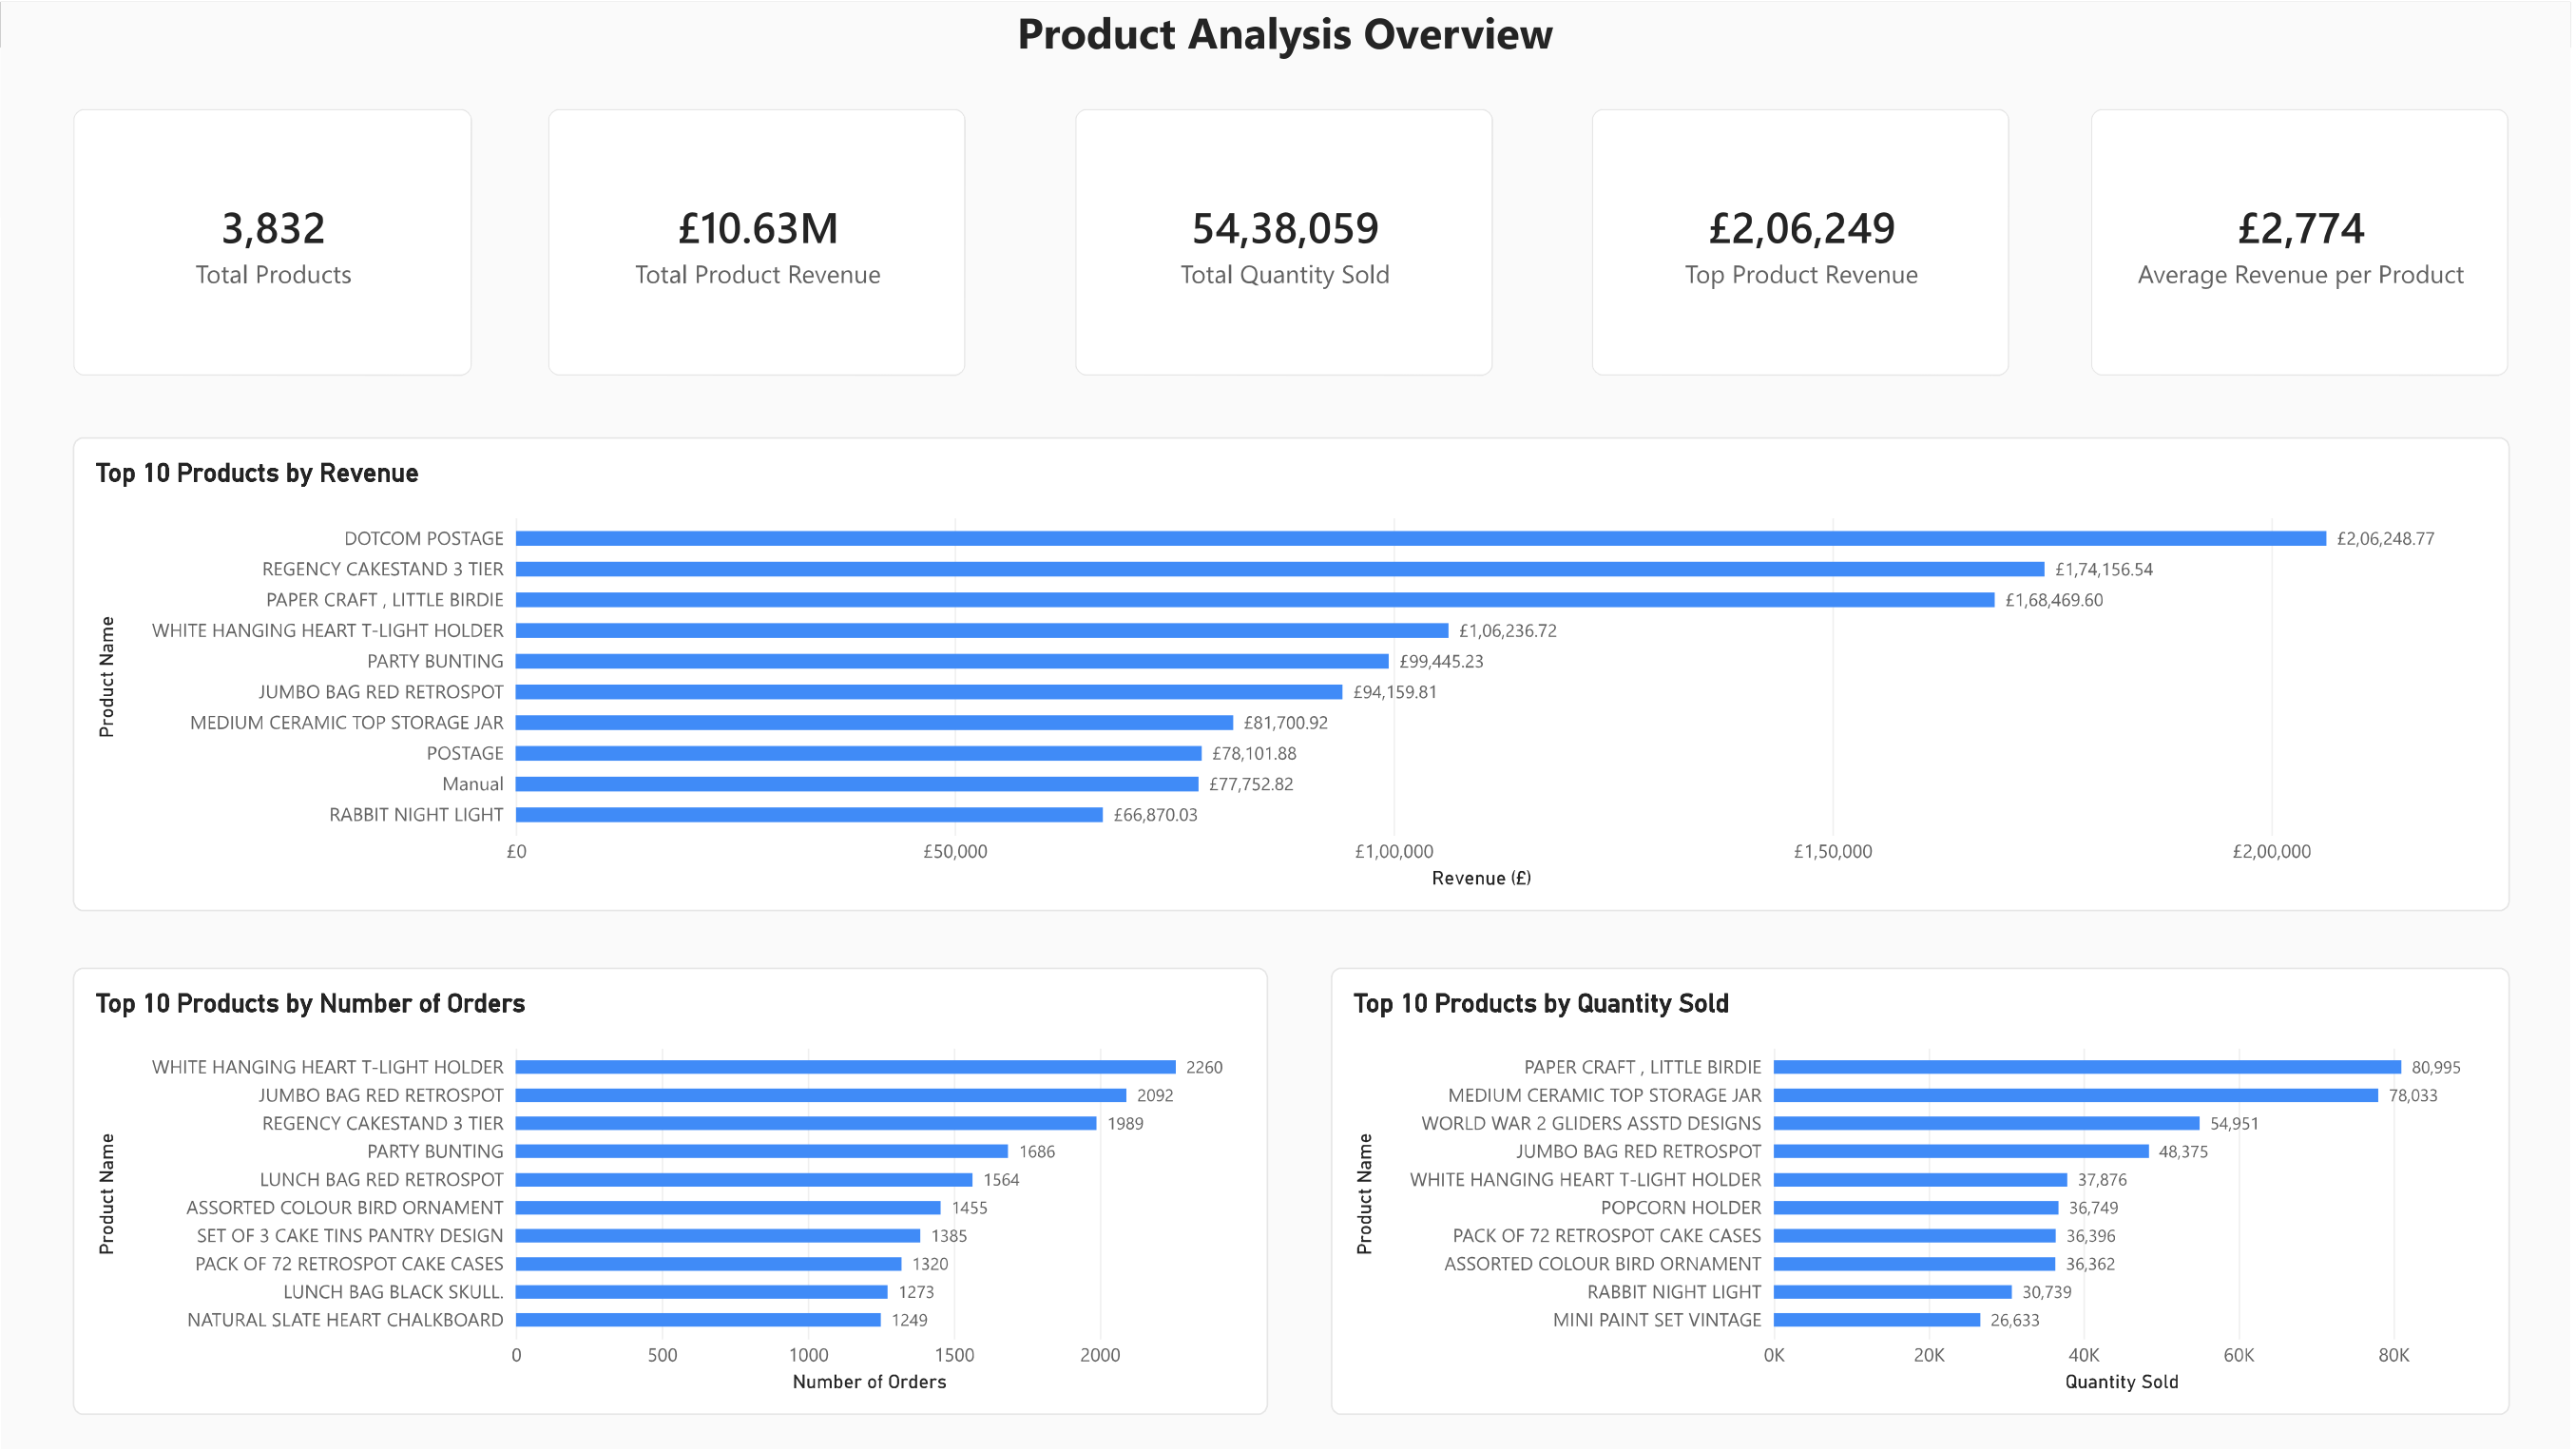

This screenshot's page, from the dashboard's own definition file:
{"tool":"powerbi","page":{"name":"Product Analysis","canvas":[1920,1080],"ordinal":2},"visuals":[{"type":"textbox","box":[10,290,280,280],"z":0},{"type":"textbox","box":[10,580,280,280],"z":1000},{"type":"textbox","box":[10,870,280,210],"z":2000},{"type":"textbox","box":[0,0,1920,51.6],"z":3000},{"type":"cardVisual","title":"Total Products ","fields":{"Data":["OnlineRetail.Eligible Total Products"]},"box":[53.5,80.3,298.3,198.9],"z":4000},{"type":"cardVisual","fields":{"Data":["OnlineRetail.Eligible Sales Revenue"]},"box":[409.2,80.3,311.7,198.9],"z":5000},{"type":"cardVisual","fields":{"Data":["OnlineRetail.Eligible Total Quantity"]},"box":[803.2,80.3,311.7,198.9],"z":6000},{"type":"cardVisual","fields":{"Data":["OnlineRetail.Top Product Revenue"]},"box":[1189.5,80.3,311.7,198.9],"z":7000},{"type":"cardVisual","fields":{"Data":["OnlineRetail.Average Revenue per Product"]},"box":[1562.4,80.3,311.7,198.9],"z":8000},{"type":"clusteredBarChart","title":"Top 10 Products by Revenue","fields":{"Category":["OnlineRetail.Description"],"Y":["OnlineRetail.Eligible Sales Revenue"]},"box":[53.8,324.6,1821.1,354.7],"z":9000},{"type":"clusteredBarChart","title":"Top 10 Products by Quantity Sold","fields":{"Category":["OnlineRetail.Description"],"Y":["OnlineRetail.Eligible Total Quantity"]},"box":[994.5,720.5,880.5,334.1],"z":10000},{"type":"clusteredBarChart","title":"Top 10 Products by Number of Orders","fields":{"Category":["OnlineRetail.Description"],"Y":["OnlineRetail.Eligible Product Orders"]},"box":[53.8,720.5,893.1,334.1],"z":11000}]}

Visuals, with their boxes in screenshot pixels (x1, y1, x2, y2), scaled from the page's 1920x1080 canvas onto the 2576x1451 screenshot:
textbox: bbox=(13, 390, 389, 765)
textbox: bbox=(13, 780, 389, 1155)
textbox: bbox=(13, 1169, 389, 1450)
textbox: bbox=(0, 0, 2575, 69)
"Total Products " cardVisual: bbox=(72, 107, 472, 375)
cardVisual - OnlineRetail.Eligible Sales Revenue: bbox=(549, 107, 968, 375)
cardVisual - OnlineRetail.Eligible Total Quantity: bbox=(1078, 107, 1496, 375)
cardVisual - OnlineRetail.Top Product Revenue: bbox=(1596, 107, 2014, 375)
cardVisual - OnlineRetail.Average Revenue per Product: bbox=(2096, 107, 2514, 375)
"Top 10 Products by Revenue" clusteredBarChart: bbox=(72, 436, 2515, 913)
"Top 10 Products by Quantity Sold" clusteredBarChart: bbox=(1335, 968, 2515, 1417)
"Top 10 Products by Number of Orders" clusteredBarChart: bbox=(72, 968, 1271, 1417)
